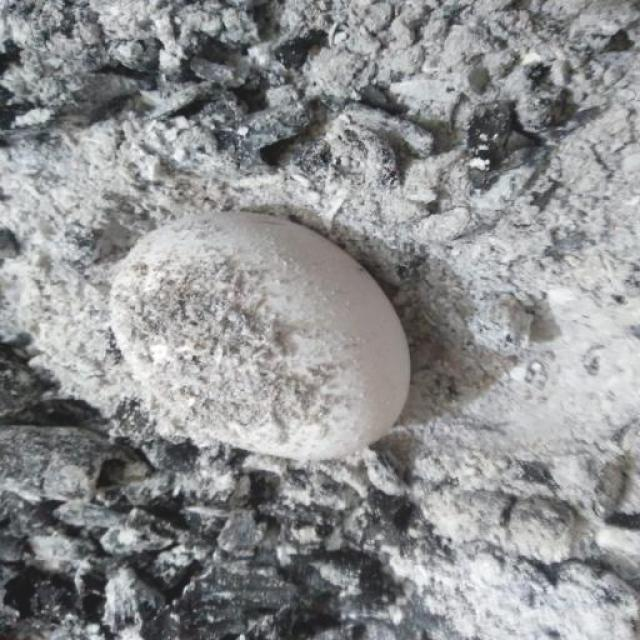telur: (108, 208, 412, 462)
